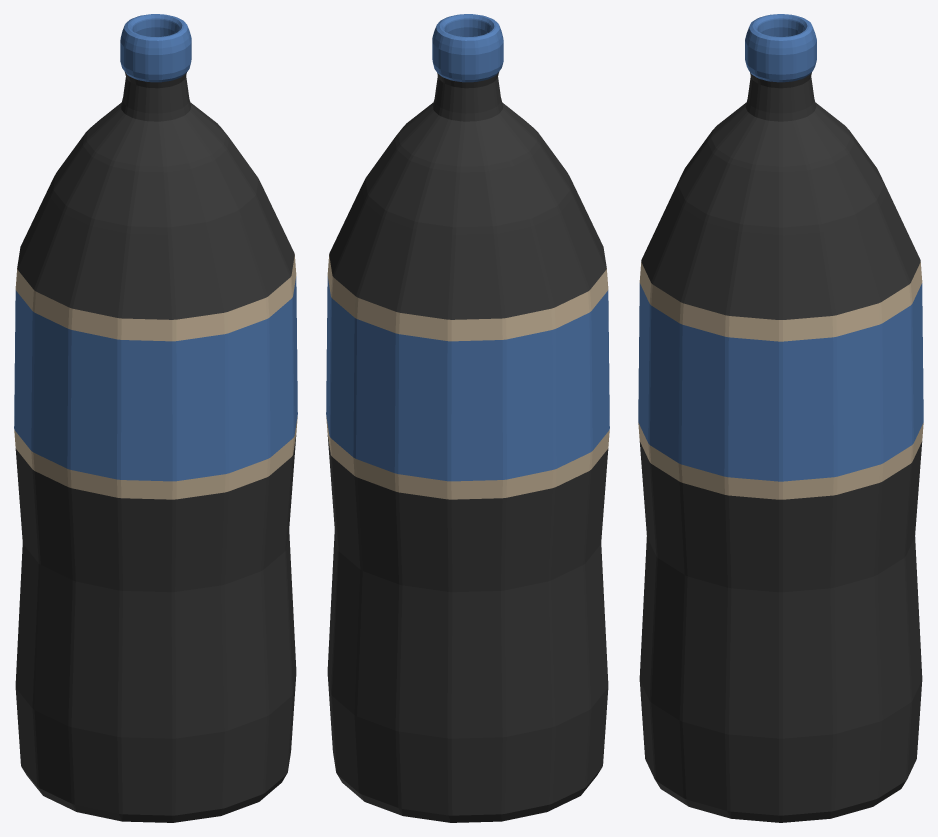
File: coke_bottle_2_Partyassets.fbx
3 renders of one model, left to right at view 1: azimuth 30°, elevation 25°; view 2: azimuth 150°, elevation 25°; view 3: azimuth 270°, elevation 25°, orthographic.
Visible parts, largest first — view 1: coke_bottle_2_Partyassets; view 2: coke_bottle_2_Partyassets; view 3: coke_bottle_2_Partyassets.
Boxes of the visible parts, x1,y1,x2,y2 form: coke_bottle_2_Partyassets: [14, 14, 297, 822]; coke_bottle_2_Partyassets: [326, 14, 609, 822]; coke_bottle_2_Partyassets: [638, 14, 923, 822].
Size of the model in its own units: 8.65 by 24.82 by 8.65.
